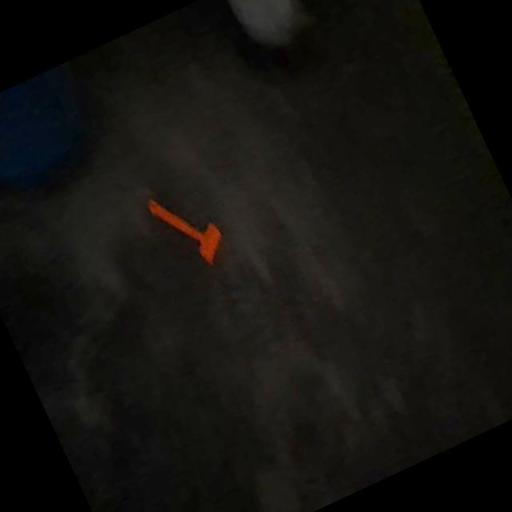mallet: (147, 179, 231, 277)
